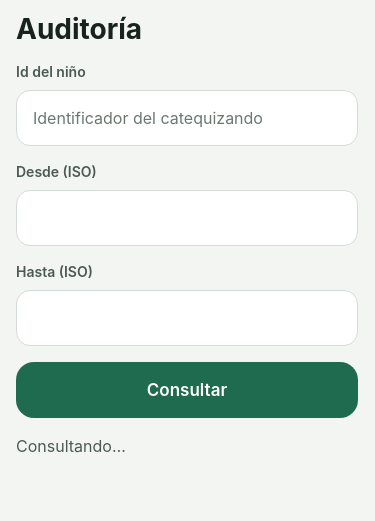
Test: RF-109: ADM consulta los eventos de un niño por fechas
Type "nino-1" into the field named "Id del niño" at (187, 118), box [16,90,358,146]
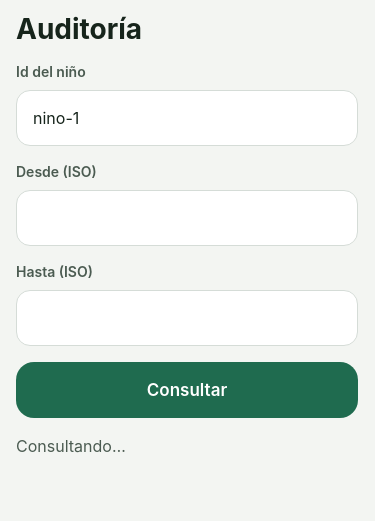
Type "2026-10-01T00:00:00Z" into the field named "Desde (ISO)" at (187, 218), box [16,190,358,246]
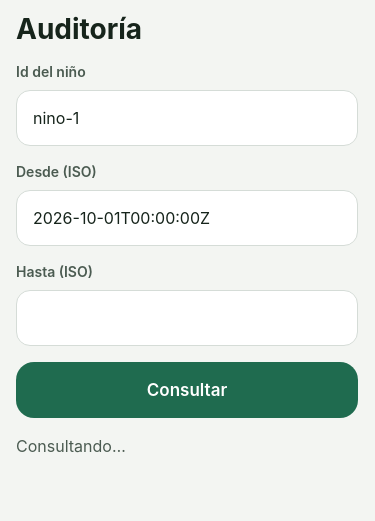
Type "2026-10-31T23:59:59Z" into the field named "Hasta (ISO)" at (187, 318), box [16,290,358,346]
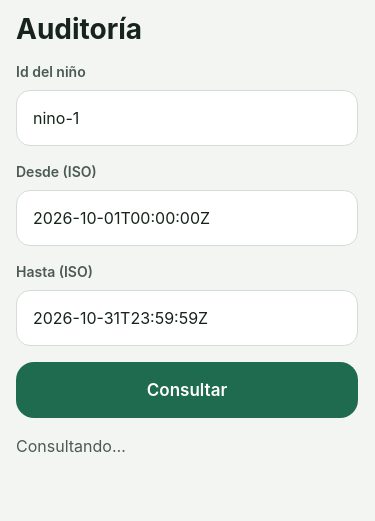
Click the button "Consultar" at (187, 390), box [16,362,358,418]
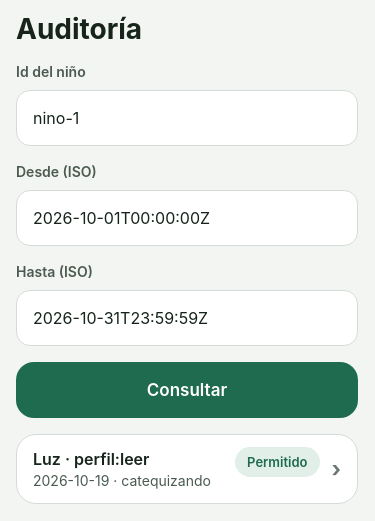
Expected: the text "Luz · perfil:leer" is shown, [33,449,149,469]
Expected: the text "2026-10-19 · catequizando" is shown, [33,471,223,491]
